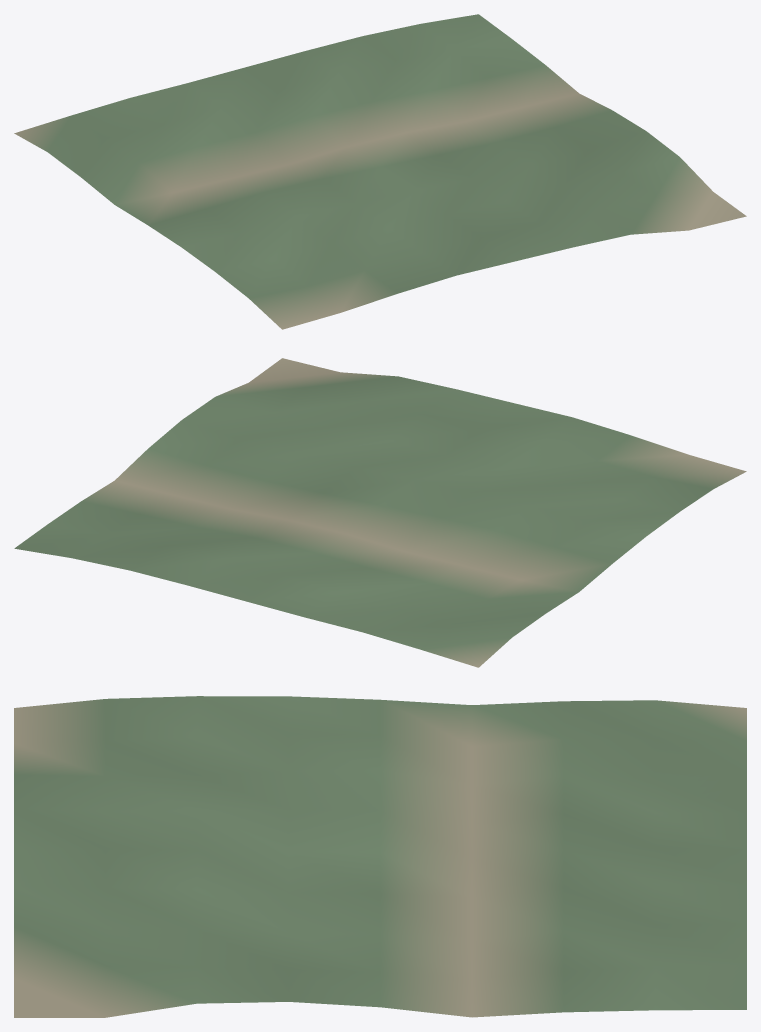
3 views of the same model, one above another, from view 1: azimuth 30°, elevation 25°; view 2: azimuth 150°, elevation 25°; view 3: azimuth 270°, elevation 25° (orthographic). The views are drawn at different scales.
Parts seen in each view (by area): view 1: Lo; view 2: Lo; view 3: Lo.
Boxes of the visible parts, <box> form: Lo: <box>14,14,746,329</box>; Lo: <box>14,358,746,667</box>; Lo: <box>14,696,746,1017</box>.
Bounding box in the file's own units: 256 × 6.81 × 256.
